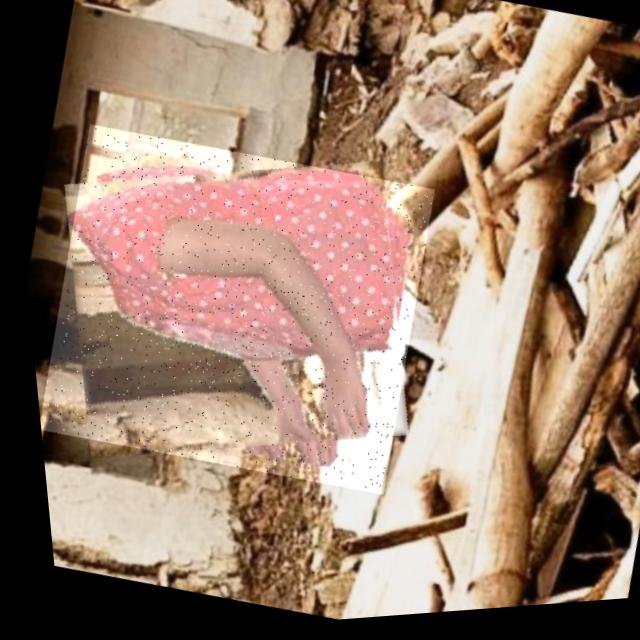Person in Rubble: (10, 104, 452, 518)
